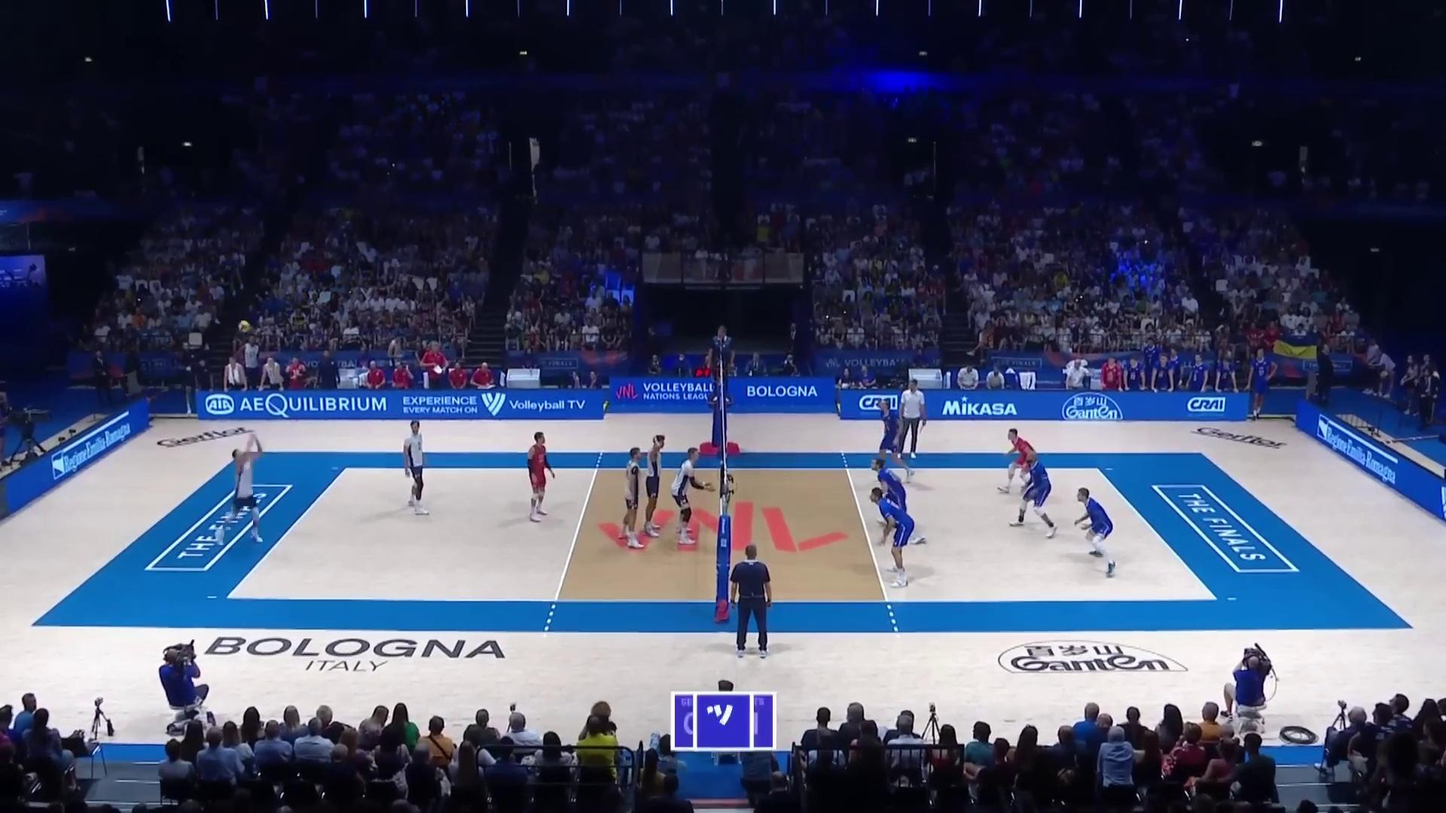player: (217, 429, 263, 550), (868, 460, 924, 543), (868, 488, 913, 589), (671, 445, 712, 547), (1073, 488, 1115, 574), (1015, 454, 1055, 537), (874, 397, 914, 479), (620, 446, 649, 548), (1000, 428, 1038, 496), (525, 432, 554, 521), (403, 420, 428, 514), (644, 434, 666, 535)
refree: (732, 545, 775, 656), (710, 327, 733, 403)
